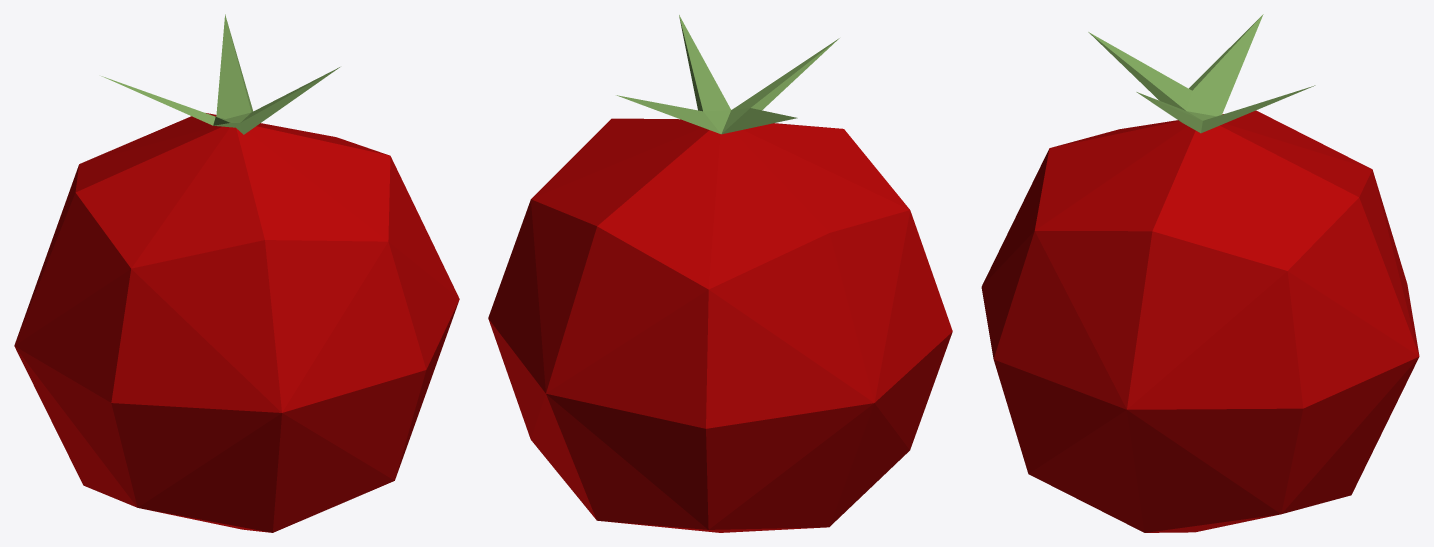
Rendered from tomato fruit.fbx.
The picture shows the model from 3 angles, left to right: view 1: azimuth 30°, elevation 25°; view 2: azimuth 150°, elevation 25°; view 3: azimuth 270°, elevation 25°; orthographic projection. The views are drawn at different scales.
Visible parts, largest first — view 1: tomato_fruit1; view 2: tomato_fruit1; view 3: tomato_fruit1.
Part boxes in pixels (x1,y1,x2,y2): tomato_fruit1: (14,14,459,532); tomato_fruit1: (488,15,952,532); tomato_fruit1: (981,14,1419,532).
Bounding box in the file's own units: 14.42 × 17.29 × 14.43.
